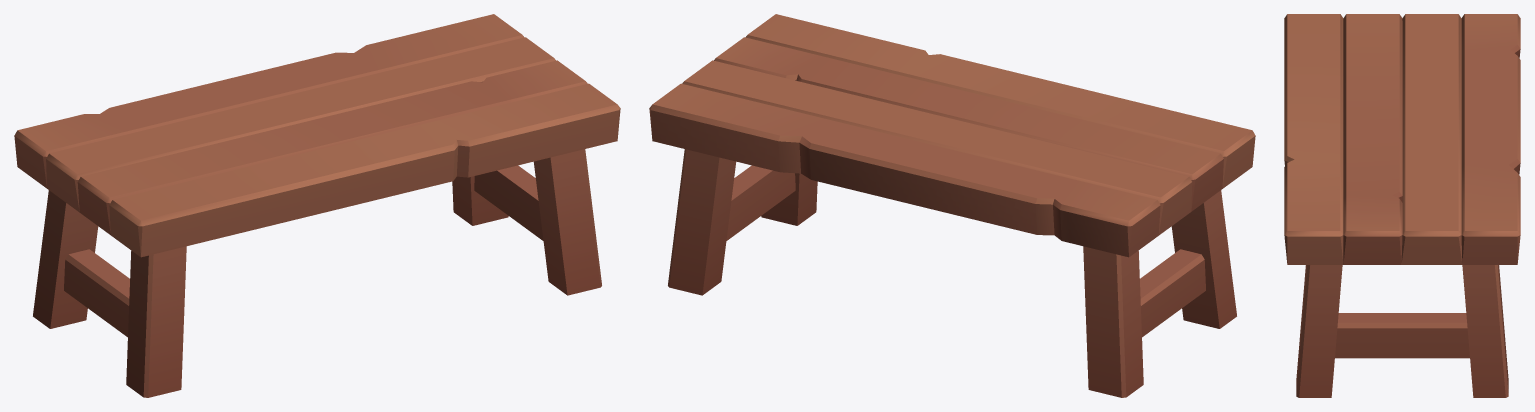
File: TableR1R.glb
3 views of the same model, side by side, from view 1: azimuth 30°, elevation 25°; view 2: azimuth 150°, elevation 25°; view 3: azimuth 270°, elevation 25° (orthographic). The views are drawn at different scales.
Parts seen in each view (by area): view 1: table_long; view 2: table_long; view 3: table_long.
Boxes of the visible parts, x1=… form: table_long: x1=14, y1=14, x2=620, y2=397; table_long: x1=649, y1=14, x2=1255, y2=397; table_long: x1=1284, y1=14, x2=1520, y2=397.
Size of the model in its own units: 2.2 by 0.8 by 1.
Materials: 1 (1 with a texture image).
